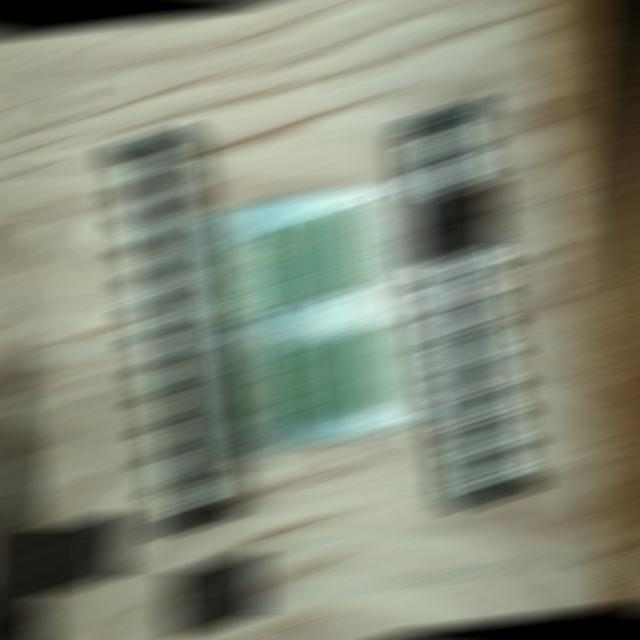Flathead_Block: (110, 131, 229, 532)
Phillips_Block: (409, 104, 531, 506)
Terminal_1: (245, 343, 291, 427), (231, 236, 276, 320)
Terminal_2: (295, 338, 341, 418), (280, 217, 325, 297), (304, 213, 349, 293), (320, 335, 365, 414), (344, 331, 389, 410)
